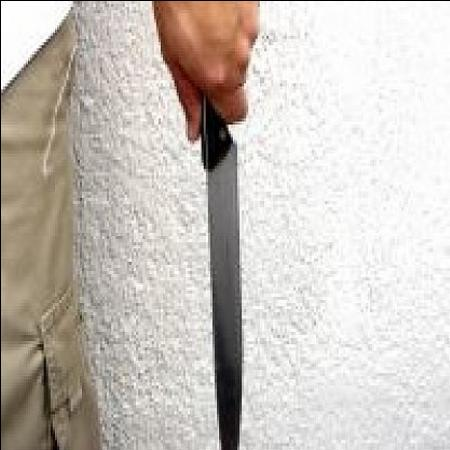long weapon: (177, 31, 258, 448)
